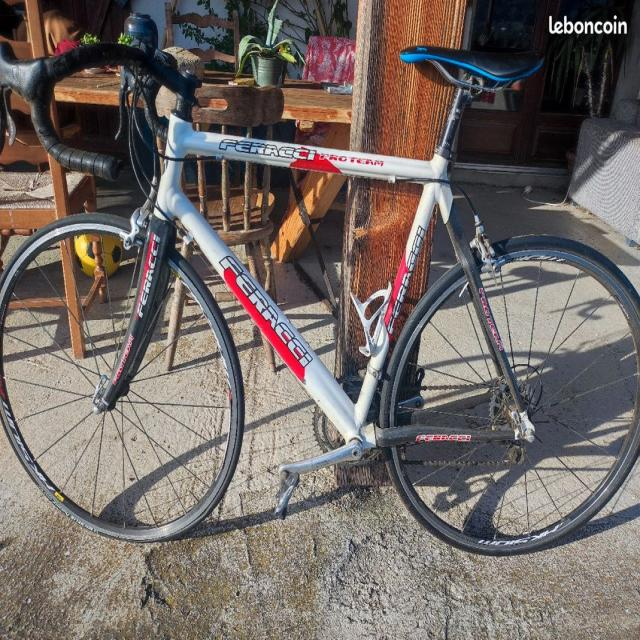Bike: (0, 15, 639, 554)
